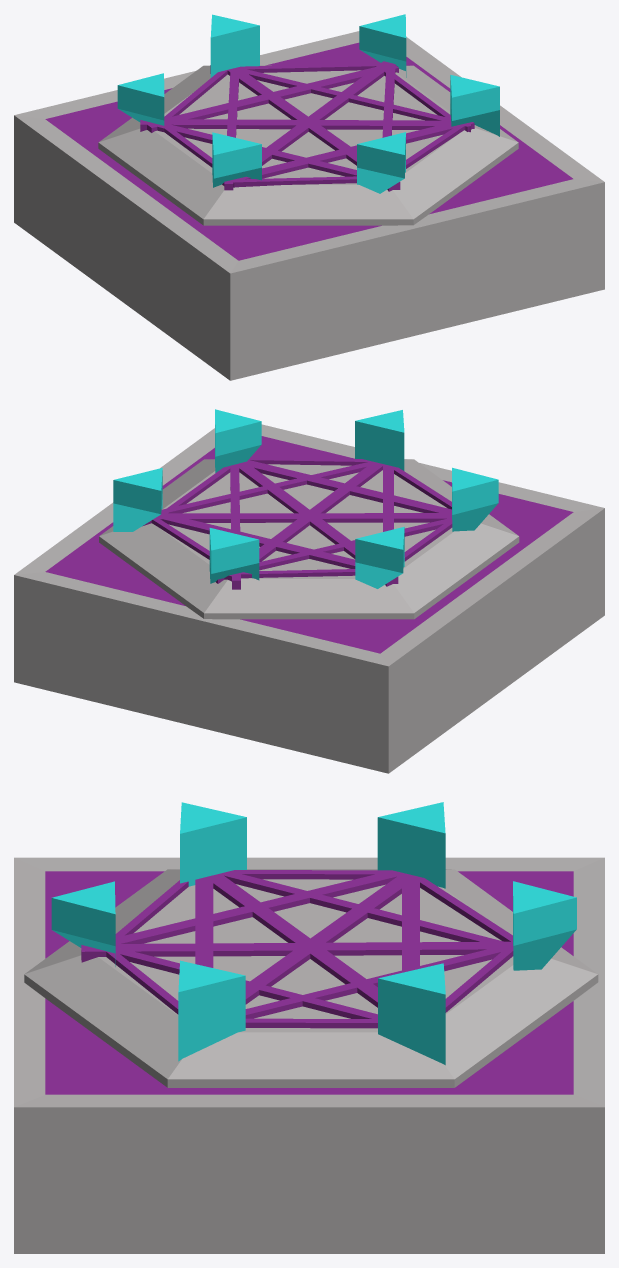
Rendered from endpoint.fbx.
3 views of the same model, one above another, from view 1: azimuth 30°, elevation 25°; view 2: azimuth 150°, elevation 25°; view 3: azimuth 270°, elevation 25° (orthographic). The views are drawn at different scales.
Parts seen in each view (by area): view 1: Cube.015, Circle, Cube.004, Circle.001, Circle.002, Circle.006, Cube, Circle.004, Circle.005, Circle.003, Cube.002, Cube.003 (+11 smaller); view 2: Cube.015, Circle, Circle.005, Cube.003, Circle.003, Circle.002, Circle.004, Circle.001, Circle.006, Cube.001, Cube.004, Cube.002 (+11 smaller); view 3: Cube.015, Circle, Circle.005, Circle.006, Circle.003, Cube.002, Circle.004, Circle.001, Circle.002, Cube.014, Cube.003, Cube.004 (+11 smaller).
Boxes of the visible parts, bbox=[...] form: Cube.015: bbox=[14, 31, 604, 380]; Circle: bbox=[98, 65, 518, 225]; Cube.004: bbox=[140, 119, 470, 132]; Circle.001: bbox=[210, 14, 259, 77]; Circle.002: bbox=[357, 132, 405, 193]; Circle.006: bbox=[450, 74, 499, 136]; Cube: bbox=[146, 64, 398, 132]; Circle.004: bbox=[212, 132, 261, 187]; Circle.005: bbox=[359, 14, 406, 77]; Circle.003: bbox=[117, 73, 164, 125]; Cube.002: bbox=[227, 68, 400, 191]; Cube.003: bbox=[228, 61, 397, 187]; Cube.015: bbox=[14, 424, 604, 773]; Circle: bbox=[99, 459, 519, 619]; Circle.005: bbox=[113, 468, 162, 531]; Cube.003: bbox=[142, 513, 451, 526]; Circle.003: bbox=[355, 526, 404, 588]; Circle.002: bbox=[355, 410, 404, 470]; Circle.004: bbox=[452, 467, 498, 531]; Circle.001: bbox=[209, 528, 259, 583]; Circle.006: bbox=[215, 409, 261, 472]; Cube.001: bbox=[241, 460, 451, 512]; Cube.004: bbox=[235, 462, 398, 586]; Cube.002: bbox=[224, 462, 384, 581]; Cube.015: bbox=[14, 857, 604, 1253]; Circle: bbox=[24, 869, 598, 1087]; Circle.005: bbox=[378, 963, 445, 1065]; Circle.006: bbox=[178, 960, 245, 1061]; Circle.003: bbox=[377, 802, 445, 888]; Cube.002: bbox=[81, 941, 512, 962]; Circle.004: bbox=[180, 802, 246, 886]; Circle.001: bbox=[513, 881, 576, 970]; Circle.002: bbox=[51, 881, 115, 966]; Cube.014: bbox=[115, 870, 405, 943]; Cube.003: bbox=[205, 874, 377, 1007]; Cube.004: bbox=[245, 875, 401, 1004].
Bounding box in the file's own units: 200 × 86.59 × 200.
